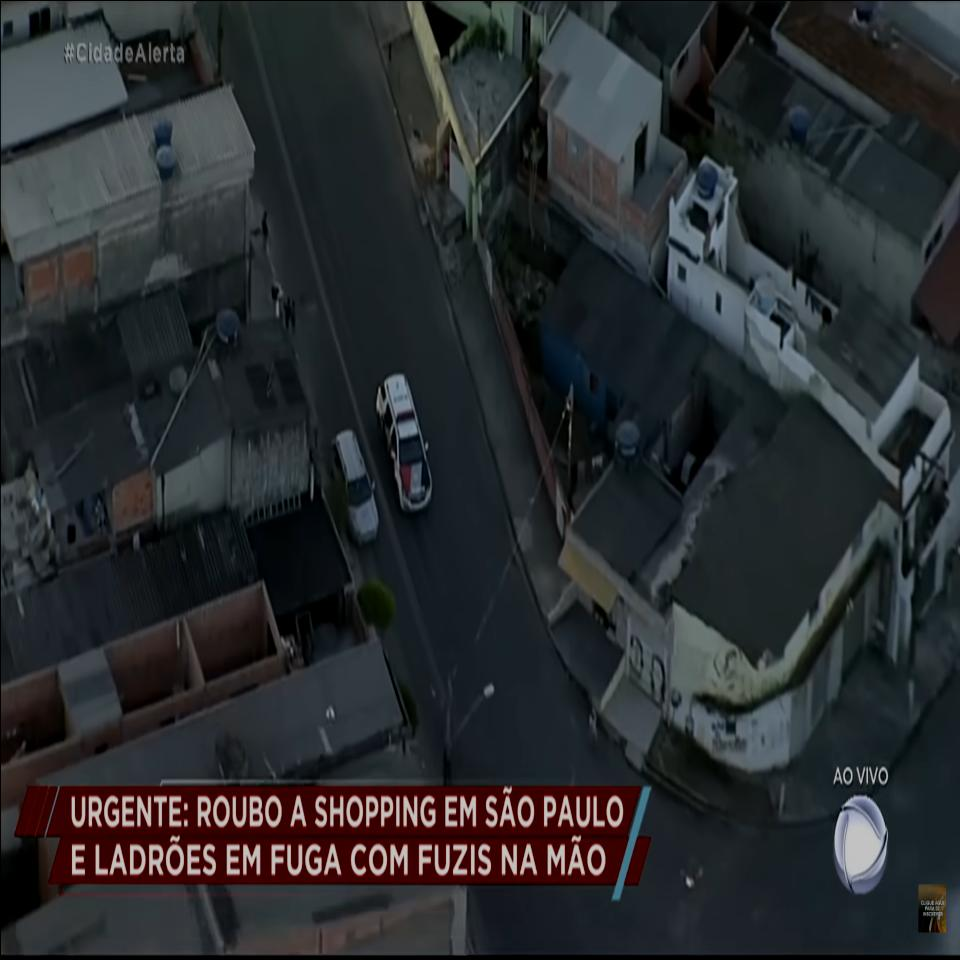viatura: (375, 370, 435, 516)
